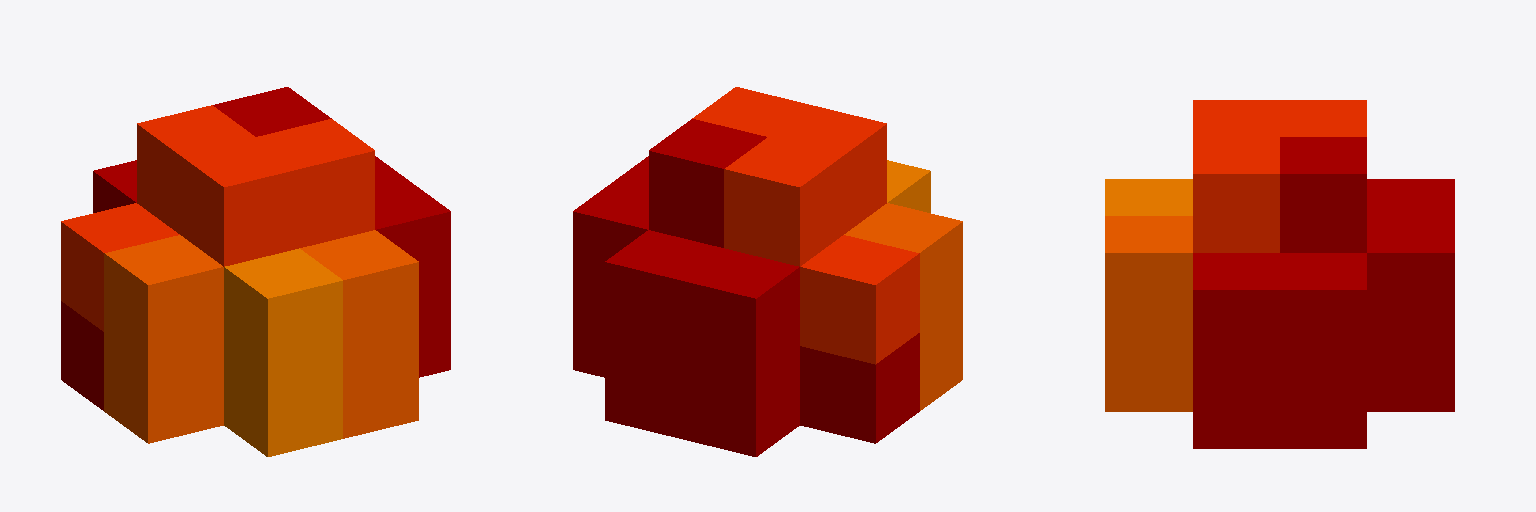
3 renders of one model, left to right at view 1: azimuth 30°, elevation 25°; view 2: azimuth 150°, elevation 25°; view 3: azimuth 270°, elevation 25°, orthographic.
Visible parts, largest first — view 1: object 1; view 2: object 1; view 3: object 1.
Part boxes in pixels (left/top/right/bottom): object 1: left=61, top=87, right=450, bottom=456; object 1: left=573, top=87, right=962, bottom=456; object 1: left=1105, top=100, right=1454, bottom=448.
Size of the model in its own units: 0.4 by 0.3 by 0.4.
Materials: 1 (1 with a texture image).